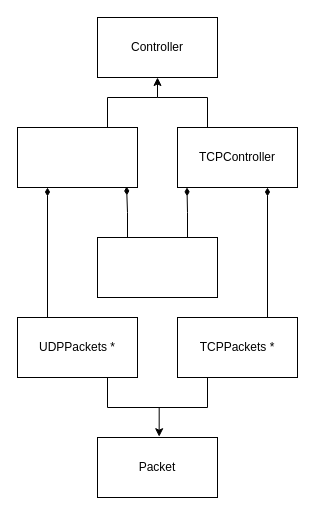
Some shapes in this 315 by 515 pixel diagram are drawn without their labels. Here are the shapes that lost their labels. From the top down, the box of each, then its label:
(16, 126, 138, 188): UDPController
(96, 236, 218, 298): Socket
